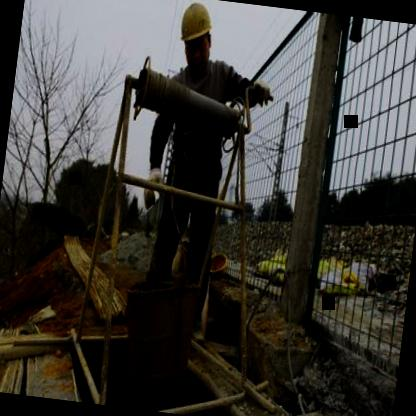helmet: (171, 0, 220, 79)
